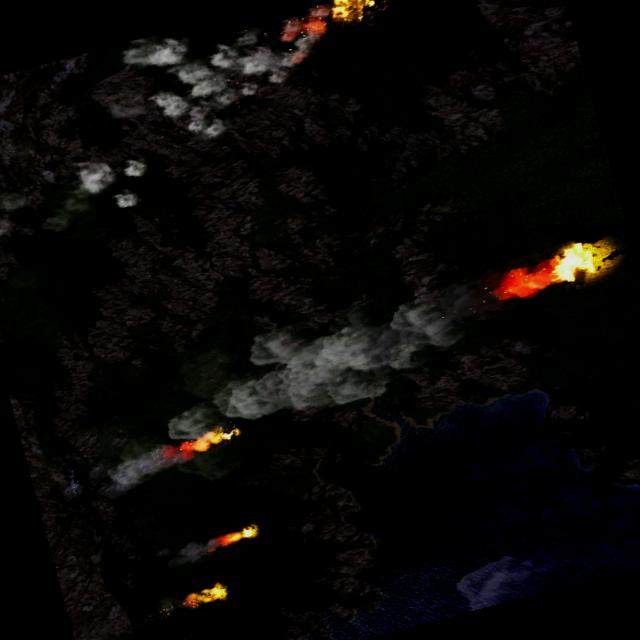fire: (542, 236, 604, 286), (178, 424, 234, 455), (323, 0, 377, 25), (182, 581, 228, 610), (216, 522, 256, 544)
smoke: (93, 249, 570, 465), (115, 0, 348, 156), (0, 143, 161, 248), (451, 544, 554, 613), (86, 438, 196, 501), (150, 531, 222, 571), (152, 593, 186, 618)
